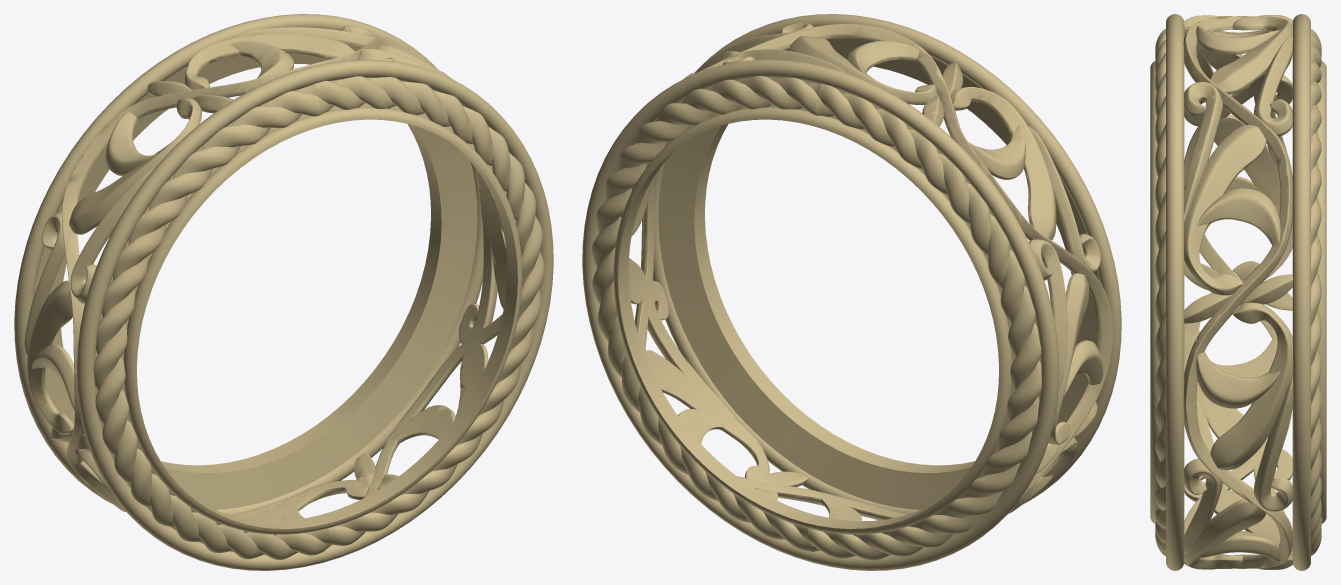
The picture shows the model from 3 angles, left to right: view 1: azimuth 30°, elevation 25°; view 2: azimuth 150°, elevation 25°; view 3: azimuth 270°, elevation 25°; orthographic projection.
Parts seen in each view (by area): view 1: Plane001__0; view 2: Plane001__0; view 3: Plane001__0.
Part boxes in pixels (x1,y1,x2,y2): Plane001__0: [14, 14, 553, 570]; Plane001__0: [582, 14, 1121, 570]; Plane001__0: [1150, 14, 1326, 570].
Size of the model in its own units: 2.44 by 2.44 by 0.7738.
